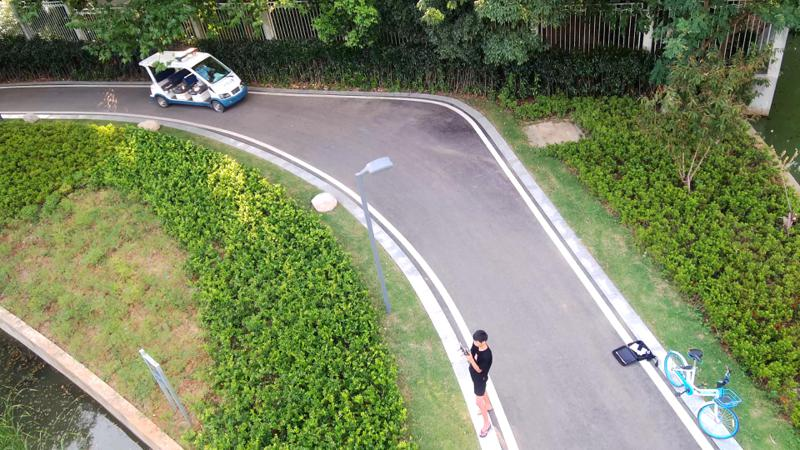passerby: (460, 329, 493, 439)
